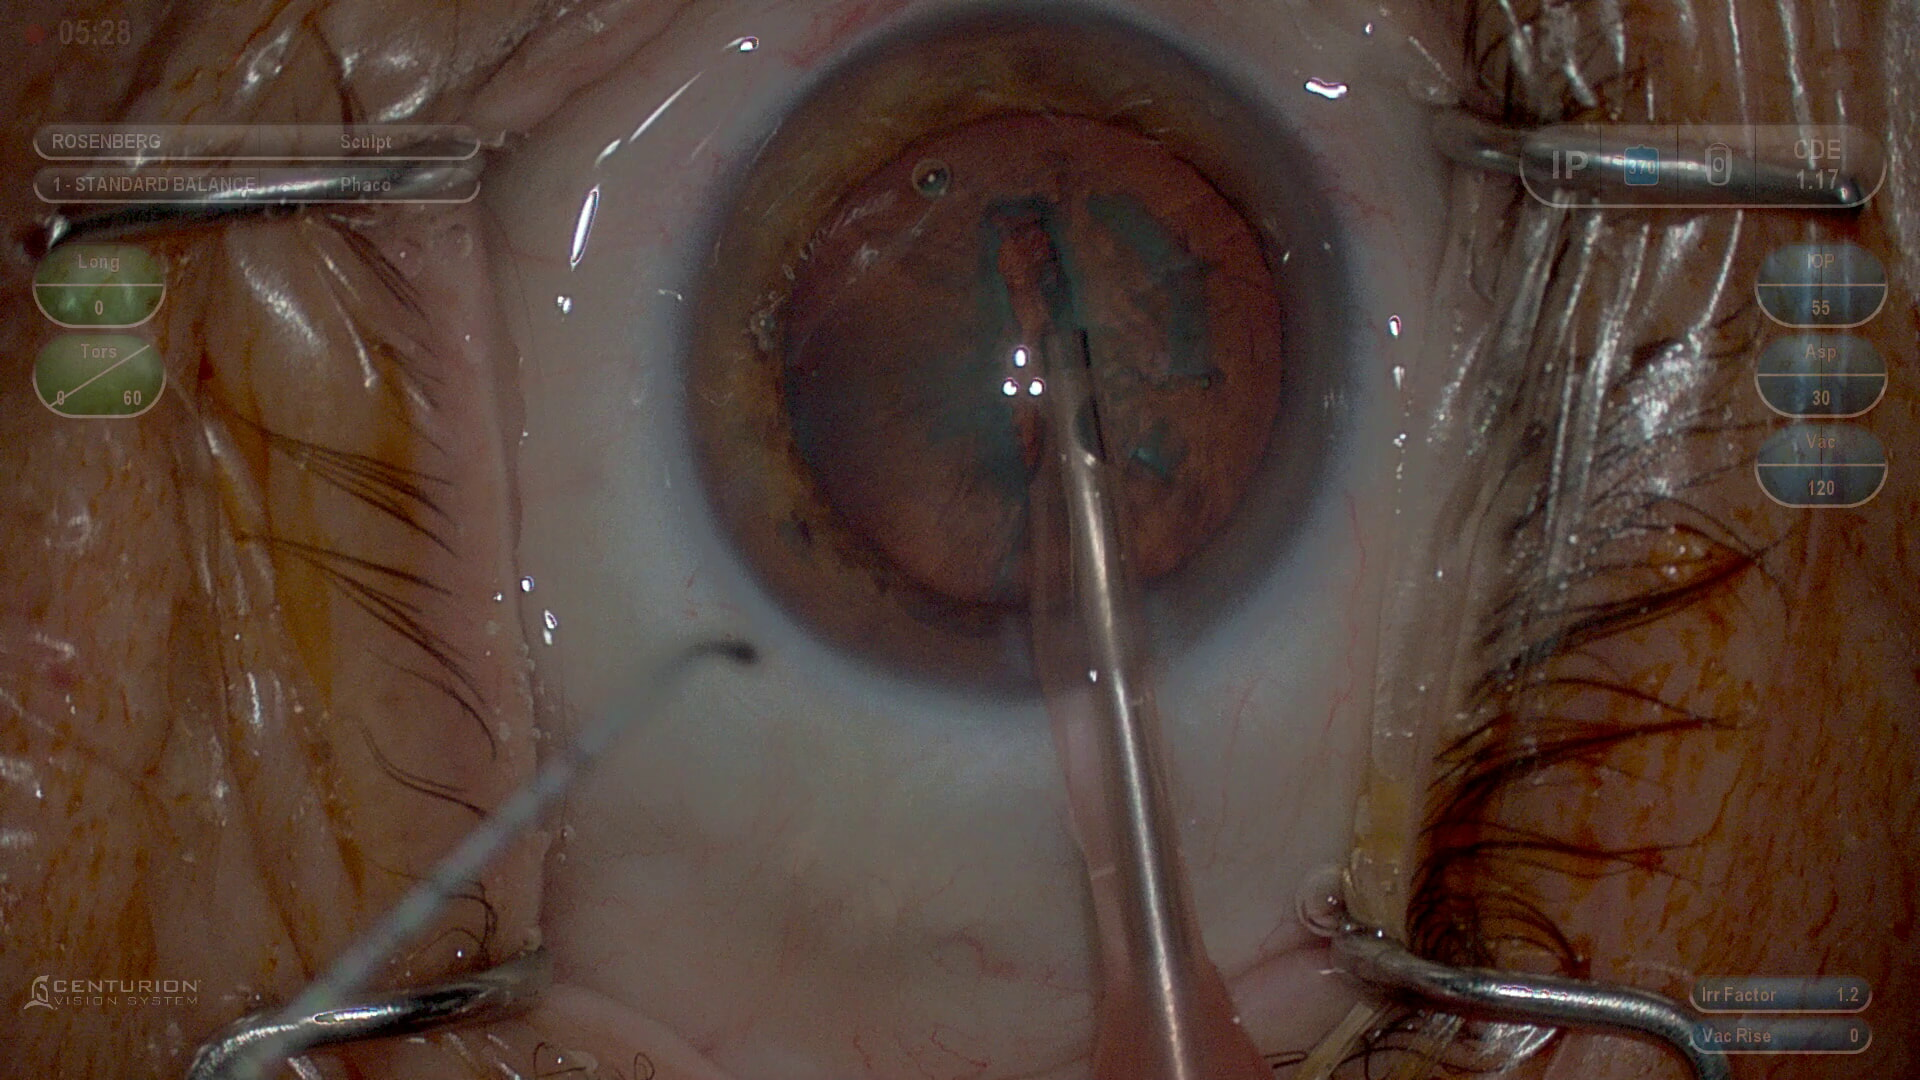iris: (683, 9, 1359, 714)
pupil: (789, 111, 1291, 617)
